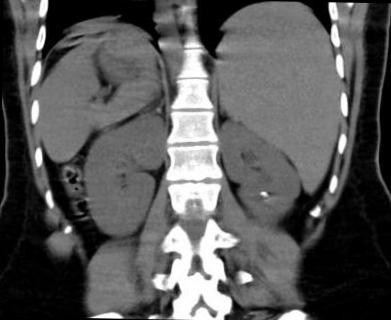Tas_Var: (260, 190, 266, 196)
